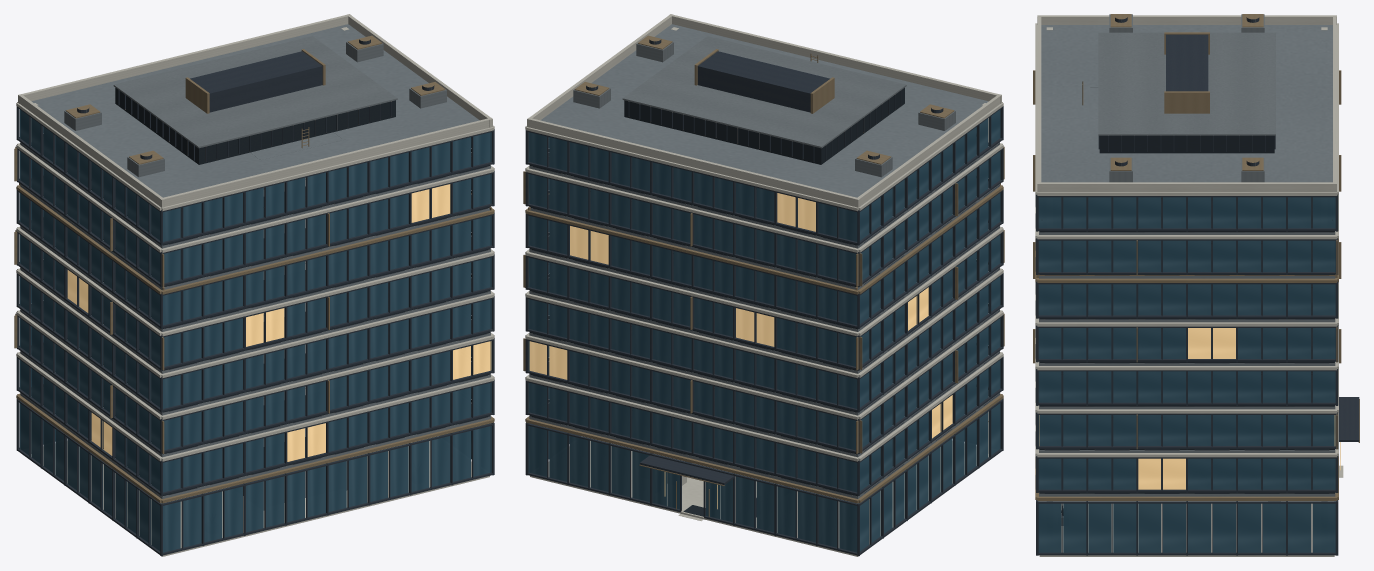
File: tower_low.glb
The picture shows the model from 3 angles, left to right: view 1: azimuth 30°, elevation 25°; view 2: azimuth 150°, elevation 25°; view 3: azimuth 270°, elevation 25°; orthographic projection. The views are drawn at different scales.
Parts seen in each view (by area): view 1: VIS_Curtainwall_Glass__glass, VIS_Transoms__graphite, VIS_Roof_Deck__concrete, VIS_Spandrel_Bands__limestone, VIS_Primary_Mullions__graphite, VIS_Mechanical_RoofCap__roof, VIS_Floor_Slabs__concrete, VIS_Roof_Parapet__limestone, VIS_Intermediate_Mullions__graphite, VIS_Curtainwall_Glass__lit_glass, VIS_Spandrel_Bands__champagne, VIS_Ceiling_Suspension__shadow (+10 smaller); view 2: VIS_Curtainwall_Glass__glass, VIS_Transoms__graphite, VIS_Roof_Deck__concrete, VIS_Spandrel_Bands__limestone, VIS_Primary_Mullions__graphite, VIS_Mechanical_RoofCap__roof, VIS_Floor_Slabs__concrete, VIS_Roof_Parapet__limestone, VIS_Intermediate_Mullions__graphite, VIS_Curtainwall_Glass__lit_glass, VIS_Ceiling_Suspension__shadow, VIS_Spandrel_Bands__champagne (+12 smaller); view 3: VIS_Curtainwall_Glass__glass, VIS_Roof_Deck__concrete, VIS_Mechanical_RoofCap__roof, VIS_Transoms__graphite, VIS_Spandrel_Bands__limestone, VIS_Roof_Parapet__limestone, VIS_Floor_Slabs__concrete, VIS_Primary_Mullions__graphite, VIS_Ceiling_Suspension__shadow, VIS_Mechanical_Core__shadow, VIS_Intermediate_Mullions__graphite, VIS_Spandrel_Bands__champagne (+10 smaller).
Boxes of the visible parts, x1,y1,x2,y2 form: VIS_Curtainwall_Glass__glass: (19,109,491,552); VIS_Transoms__graphite: (17,106,493,555); VIS_Roof_Deck__concrete: (32,24,479,197); VIS_Spandrel_Bands__limestone: (16,102,494,461); VIS_Primary_Mullions__graphite: (16,106,494,556); VIS_Mechanical_RoofCap__roof: (113,36,397,148); VIS_Floor_Slabs__concrete: (20,142,490,498); VIS_Roof_Parapet__limestone: (18,14,492,207); VIS_Intermediate_Mullions__graphite: (29,116,473,548); VIS_Curtainwall_Glass__lit_glass: (67,184,491,461); VIS_Spandrel_Bands__champagne: (16,185,494,503); VIS_Ceiling_Suspension__shadow: (31,135,471,487); VIS_Curtainwall_Glass__glass: (528,109,1000,552); VIS_Transoms__graphite: (526,106,1003,555); VIS_Roof_Deck__concrete: (540,24,988,197); VIS_Spandrel_Bands__limestone: (525,102,1003,461); VIS_Primary_Mullions__graphite: (525,106,1003,556); VIS_Mechanical_RoofCap__roof: (622,36,906,148); VIS_Floor_Slabs__concrete: (529,142,999,498); VIS_Roof_Parapet__limestone: (527,14,1001,207); VIS_Intermediate_Mullions__graphite: (547,116,991,548); VIS_Curtainwall_Glass__lit_glass: (529,193,952,438); VIS_Ceiling_Suspension__shadow: (548,135,988,487); VIS_Spandrel_Bands__champagne: (525,185,1003,503); VIS_Curtainwall_Glass__glass: (1038,197,1335,552); VIS_Roof_Deck__concrete: (1041,25,1332,182); VIS_Mechanical_RoofCap__roof: (1098,32,1275,135); VIS_Transoms__graphite: (1036,196,1338,555); VIS_Spandrel_Bands__limestone: (1035,23,1338,457); VIS_Roof_Parapet__limestone: (1037,15,1336,192); VIS_Floor_Slabs__concrete: (1039,231,1335,496); VIS_Primary_Mullions__graphite: (1036,194,1338,555); VIS_Ceiling_Suspension__shadow: (1061,197,1312,489); VIS_Mechanical_Core__shadow: (1099,135,1274,153); VIS_Intermediate_Mullions__graphite: (1061,197,1312,553); VIS_Spandrel_Bands__champagne: (1035,238,1338,500).
Bounding box in the file's own units: 32.68 × 36.33 × 26.18.
Materials: 8 (8 with a texture image).
